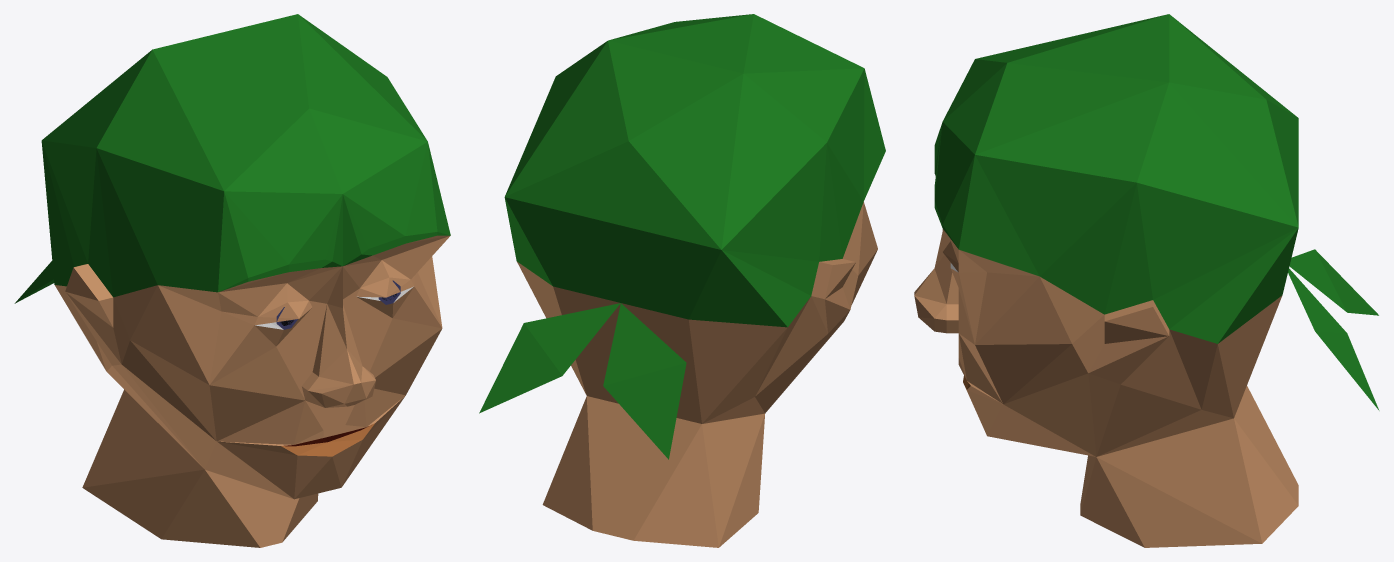
The model's file is model_111_npc_head.obj.
3 renders of one model, left to right at view 1: azimuth 30°, elevation 25°; view 2: azimuth 150°, elevation 25°; view 3: azimuth 270°, elevation 25°, orthographic. The views are drawn at different scales.
Parts seen in each view (by area): view 1: 111; view 2: 111; view 3: 111.
Part boxes in pixels (x1,y1,x2,y2): 111: (14, 14, 450, 547); 111: (479, 14, 885, 547); 111: (914, 14, 1379, 547).
Bounding box in the file's own units: 88 × 126 × 115.
